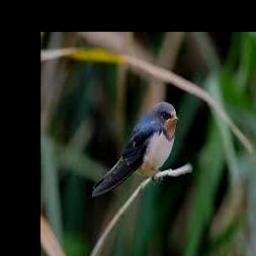Swallow: (89, 102, 177, 197)
